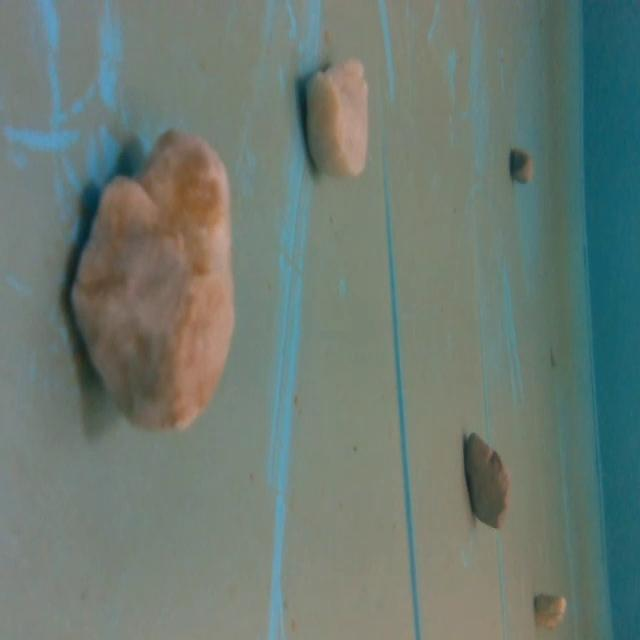rock: (60, 117, 245, 439), (296, 49, 374, 185), (460, 425, 515, 533), (527, 582, 572, 636), (505, 142, 539, 193)
